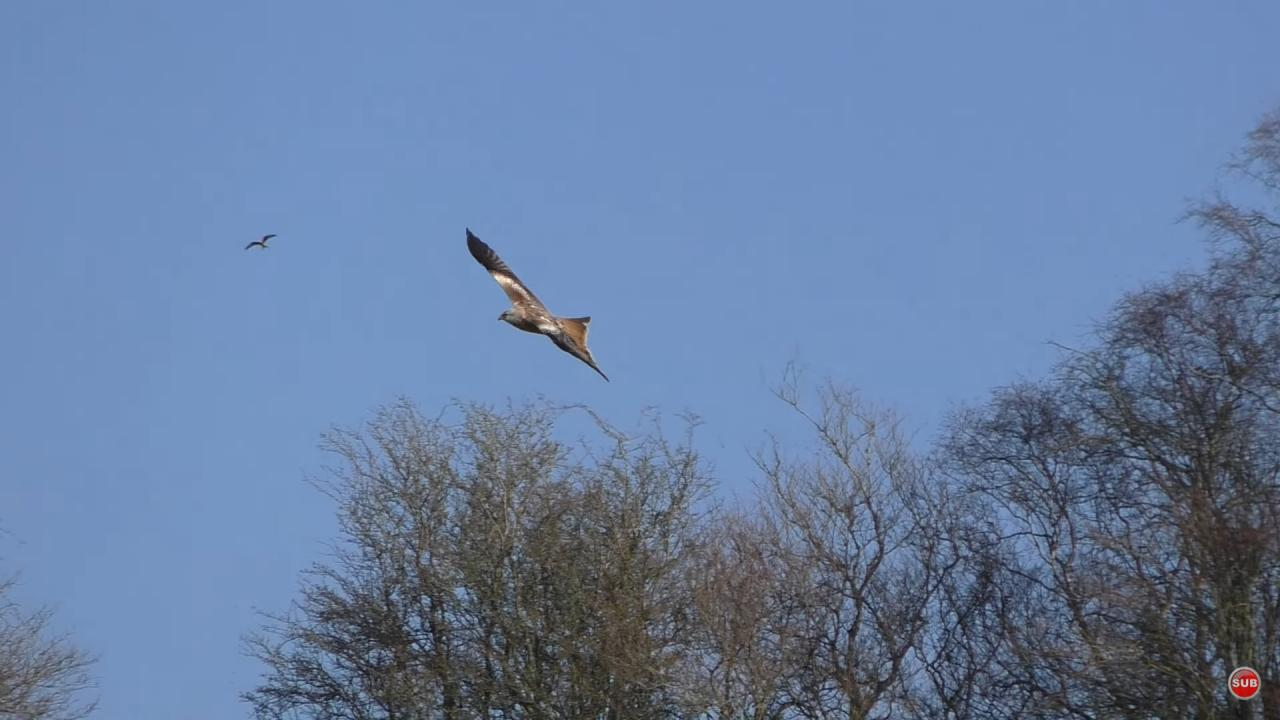Bird: (454, 222, 620, 392), (234, 220, 287, 266)
